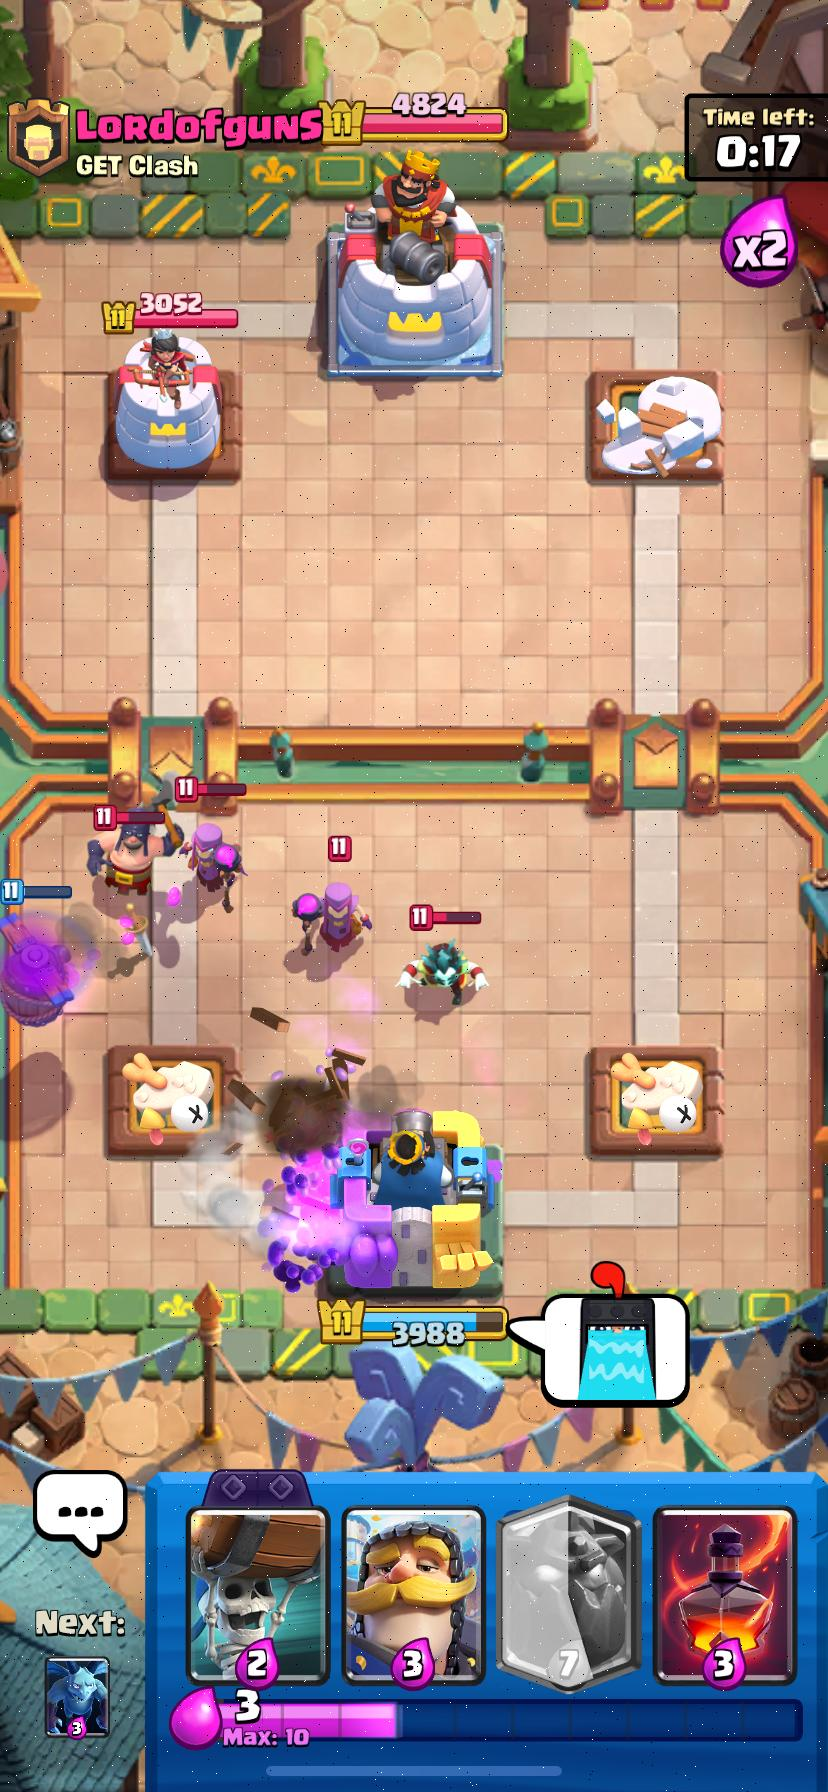EEX: (87, 806, 183, 894)
EKingTower: (327, 153, 502, 378)
EMotherWitch: (182, 822, 244, 913), (292, 885, 371, 955)
EnemyPrincessTower: (108, 329, 239, 479)
OElectroWizard: (396, 939, 487, 1006)
OFlyingMachine: (0, 914, 79, 1026)
OwnKingTower: (341, 1110, 493, 1286)
TowerDown: (588, 1046, 723, 1157), (108, 1045, 237, 1158), (594, 373, 720, 479)
